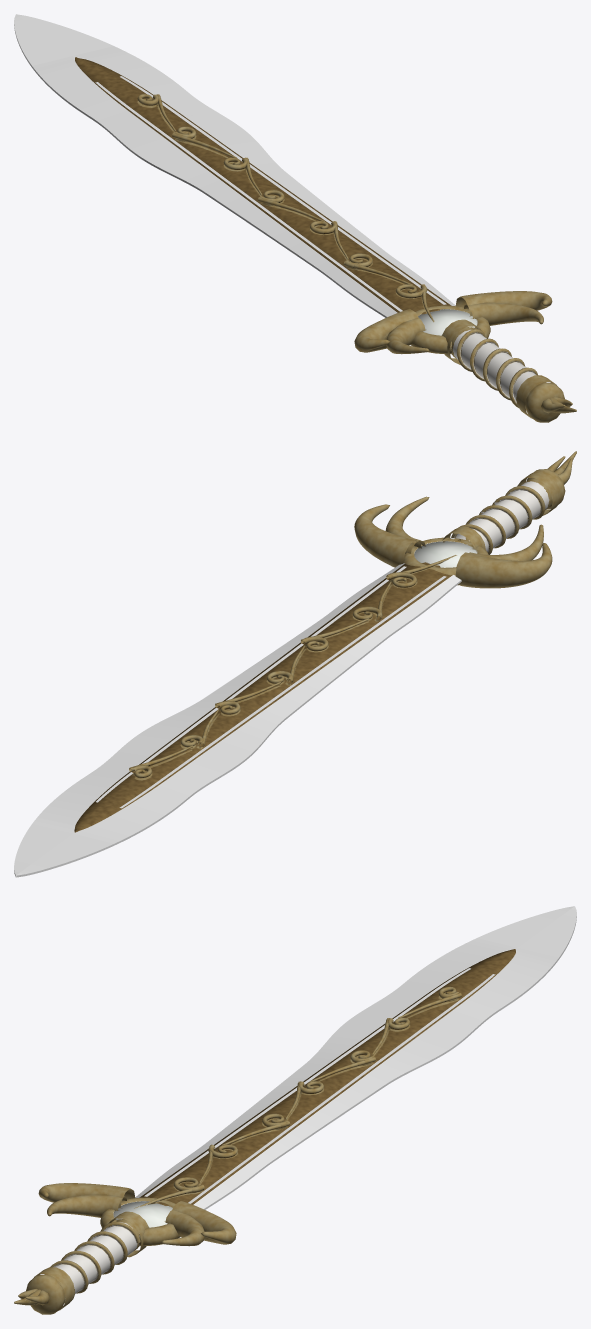
The model's file is FlyingSword.fbx.
3 renders of one model, top to bottom at view 1: azimuth 30°, elevation 25°; view 2: azimuth 150°, elevation 25°; view 3: azimuth 330°, elevation 25°, orthographic.
Visible parts, largest first — view 1: FlyingSword_Body, FlyingSword_Glow_4b8cff, FlyingSword_Glow_9cc4ff; view 2: FlyingSword_Body, FlyingSword_Glow_4b8cff, FlyingSword_Glow_9cc4ff; view 3: FlyingSword_Body, FlyingSword_Glow_4b8cff, FlyingSword_Glow_9cc4ff.
Boxes of the visible parts, x1,y1,x2,y2 form: FlyingSword_Body: (75,57,576,422); FlyingSword_Glow_4b8cff: (14,14,455,317); FlyingSword_Glow_9cc4ff: (95,76,446,311); FlyingSword_Body: (74,451,576,832); FlyingSword_Glow_4b8cff: (14,563,461,877); FlyingSword_Glow_9cc4ff: (96,566,446,808); FlyingSword_Body: (14,949,515,1314); FlyingSword_Glow_4b8cff: (135,906,576,1209); FlyingSword_Glow_9cc4ff: (144,968,495,1203).
Size of the model in its own units: 1.67 by 0.3579 by 8.49.
3 materials, 1 textured.
